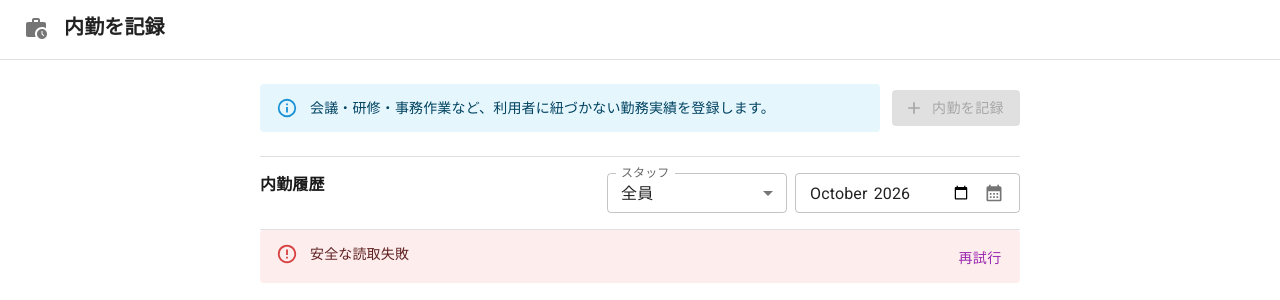
does not render empty work data after a failed read and supports retry
Expected: the text "安全な読取失敗" is shown, [310,246,409,262]
Expected: the text "この月の内勤実績はありません" is not shown
Click the button "再試行" at point(980, 258), box [948,240,1012,276]
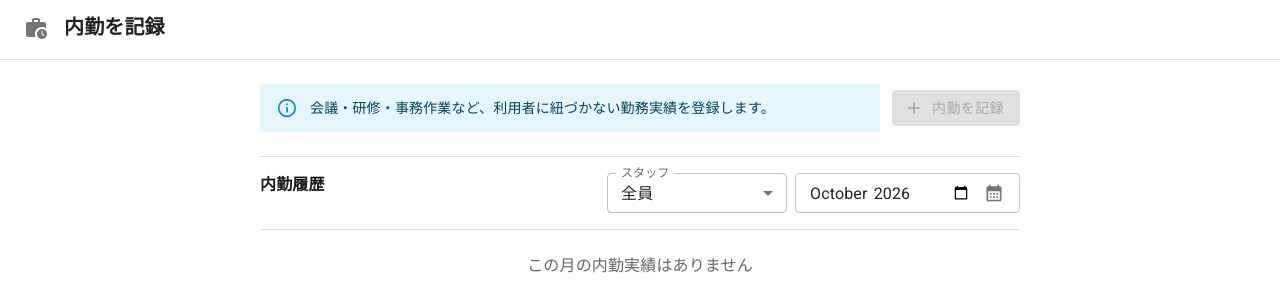
Now the text "この月の内勤実績はありません" is shown, box [527,256,753,275]
